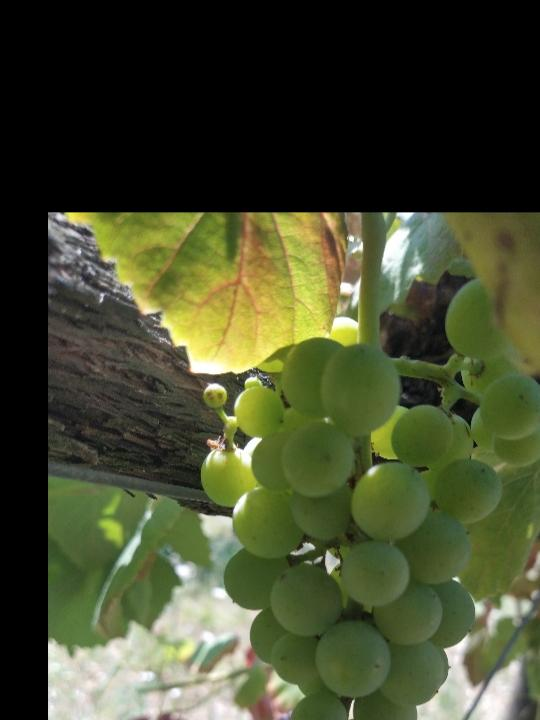grape: (198, 276, 540, 720)
